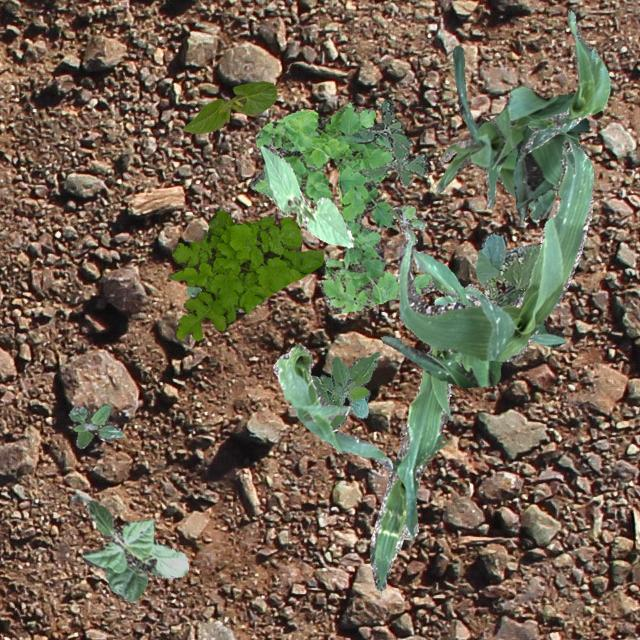crop: (370, 296, 564, 590), (397, 137, 592, 360), (436, 45, 554, 218), (380, 248, 500, 386), (273, 344, 392, 469), (491, 84, 588, 224), (522, 10, 610, 152), (81, 499, 188, 602), (260, 144, 352, 246), (311, 350, 378, 428), (182, 80, 276, 132), (474, 232, 540, 304), (186, 284, 200, 298)
weed: (248, 101, 436, 312), (166, 210, 322, 340), (344, 99, 426, 184), (68, 402, 122, 448), (389, 204, 425, 243)
